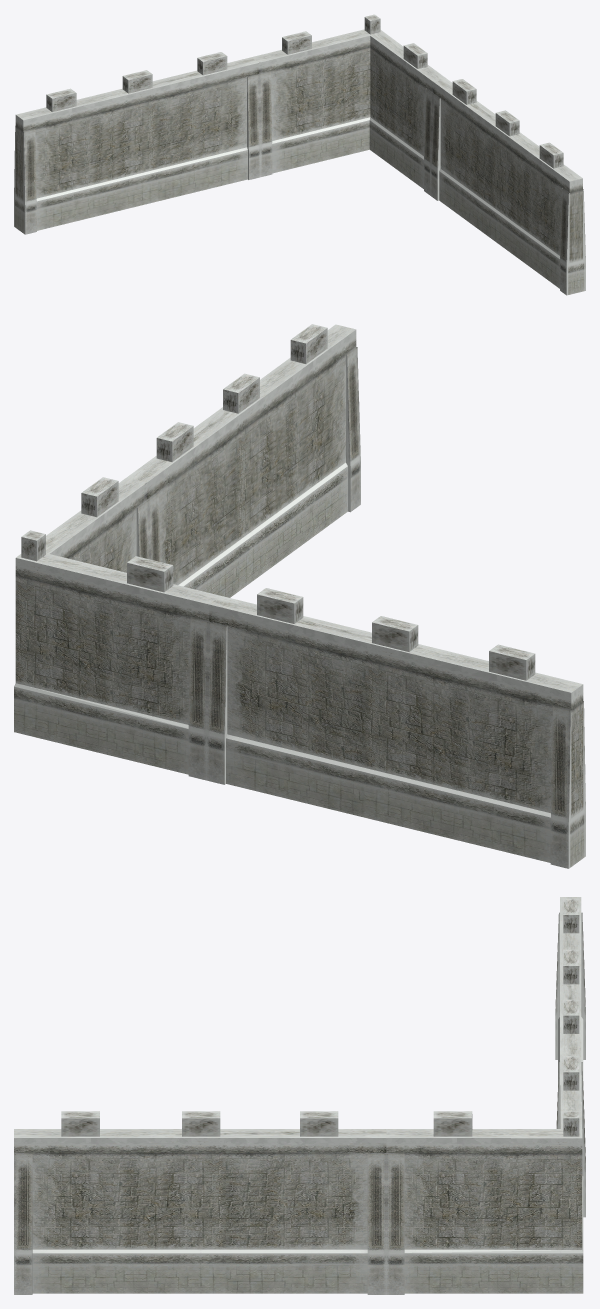
Rendered from snow-bigdam-05.fbx.
3 renders of one model, top to bottom at view 1: azimuth 30°, elevation 25°; view 2: azimuth 150°, elevation 25°; view 3: azimuth 270°, elevation 25°, orthographic. The views are drawn at different scales.
Visible parts, largest first — view 1: snow-bigdam-01; view 2: snow-bigdam-01; view 3: snow-bigdam-01.
Boxes of the visible parts, bbox=[...] form: snow-bigdam-01: bbox=[14, 14, 585, 295]; snow-bigdam-01: bbox=[14, 324, 585, 868]; snow-bigdam-01: bbox=[14, 897, 585, 1294].
Bounding box in the file's own units: 15.44 × 5.14 × 15.37.
